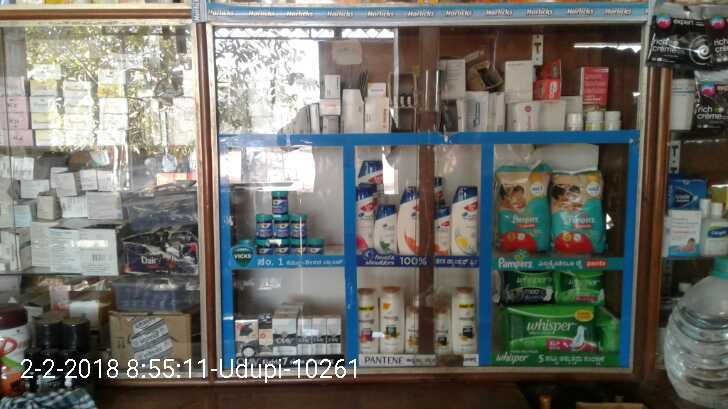beauty: (453, 185, 479, 257), (378, 290, 404, 355), (452, 287, 478, 352), (356, 190, 376, 258), (399, 192, 420, 256), (360, 288, 378, 358), (374, 205, 396, 252), (271, 317, 298, 353), (234, 320, 260, 354), (432, 209, 450, 256), (434, 309, 449, 358), (328, 317, 345, 358), (312, 317, 326, 356), (296, 321, 312, 352)
pharmacy: (490, 168, 552, 258), (503, 305, 603, 360), (551, 167, 602, 255), (499, 270, 556, 304), (557, 269, 603, 309), (269, 186, 288, 213), (255, 209, 272, 239), (293, 212, 310, 238), (270, 240, 291, 259), (289, 235, 307, 257), (308, 238, 325, 261), (272, 217, 288, 241), (255, 241, 271, 259)
